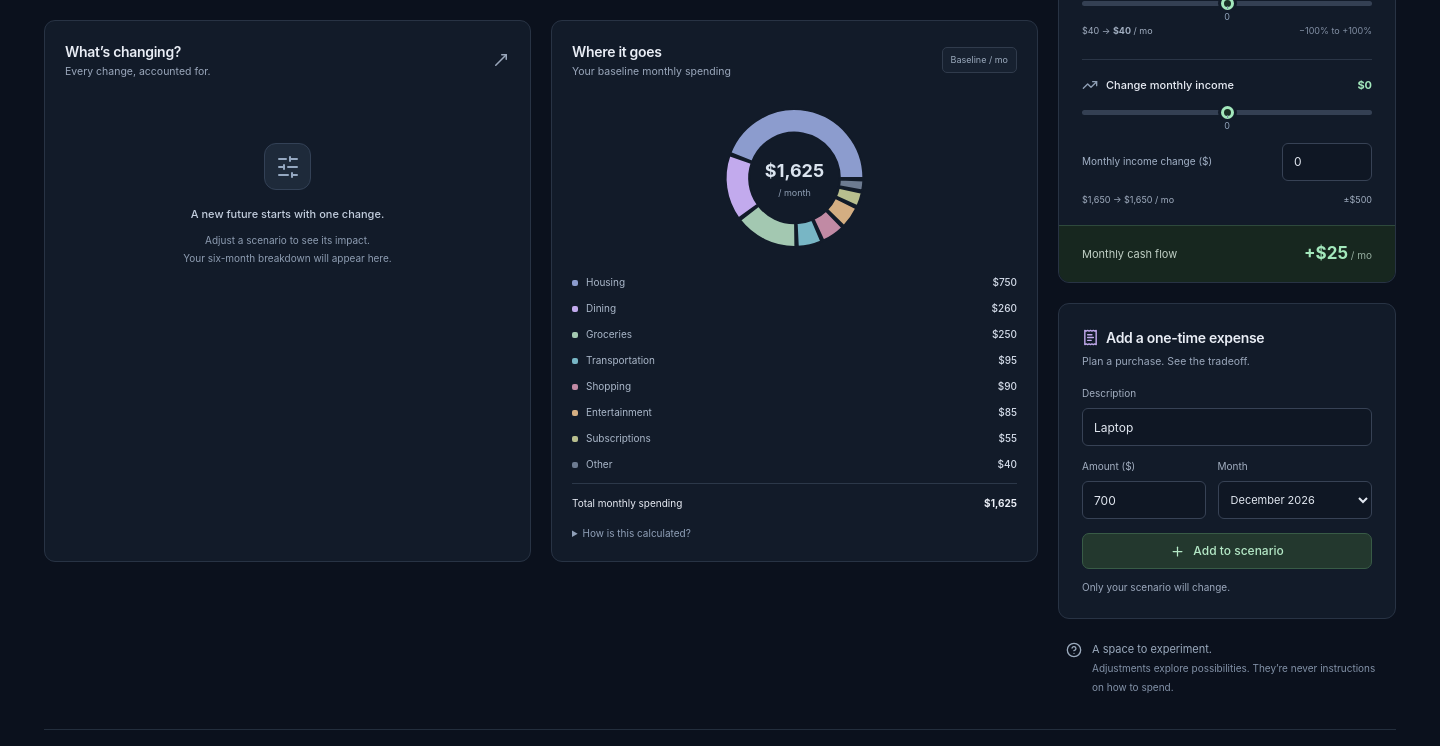
dashboard interactions › validates expense drafts, supports zero, and removes an applied cost
(page scrolled)
Step 1. Replace the text in the number field labelled "Amount ($)" with "-10" → coordinates (1144, 500), box [1082,481,1206,519]
Step 2. Click the button "Add to scenario" → coordinates (1227, 551), box [1082,533,1372,569]
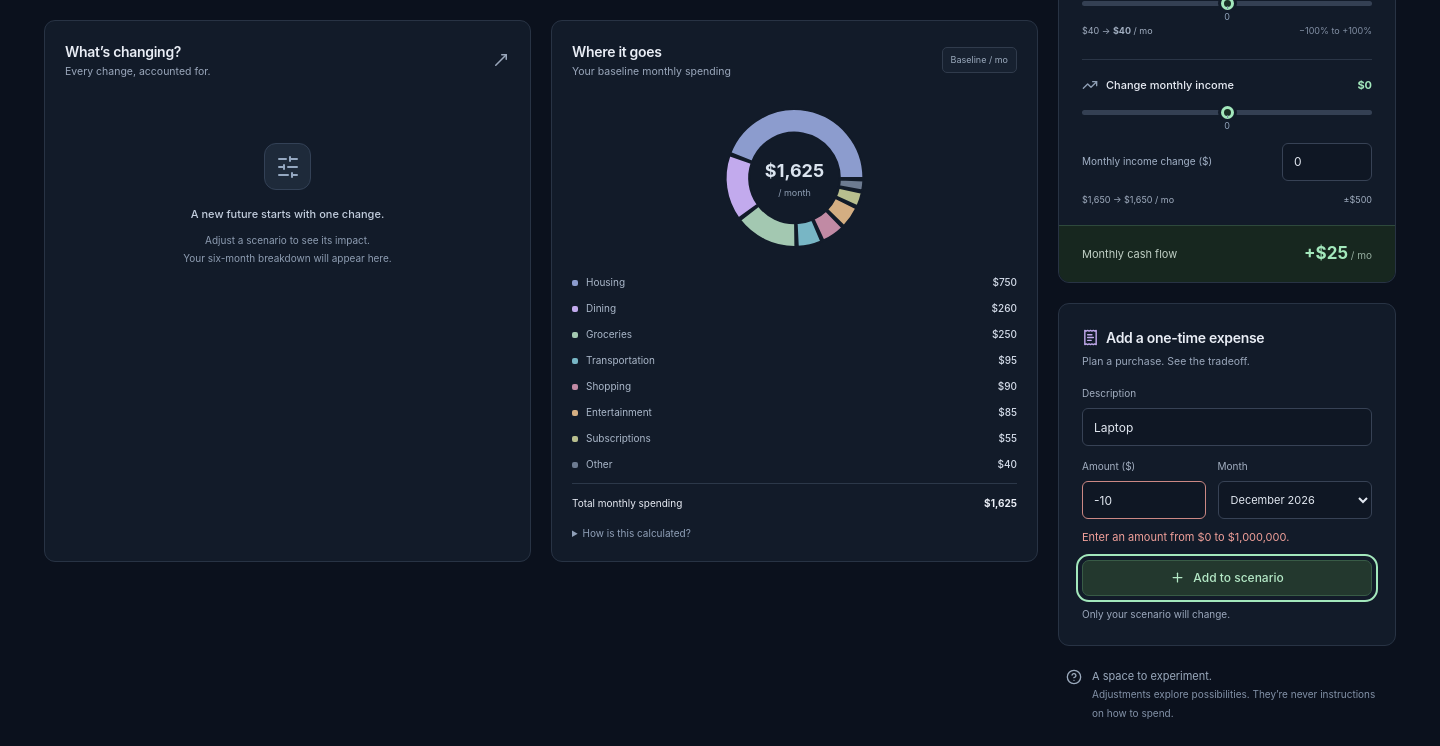
Check: the message "Enter an amount from $0 to $1,000,000." is shown, box [1082,530,1289,544]
Step 3. Replace the text in the number field labelled "Amount ($)" with "0" → coordinates (1144, 500), box [1082,481,1206,519]
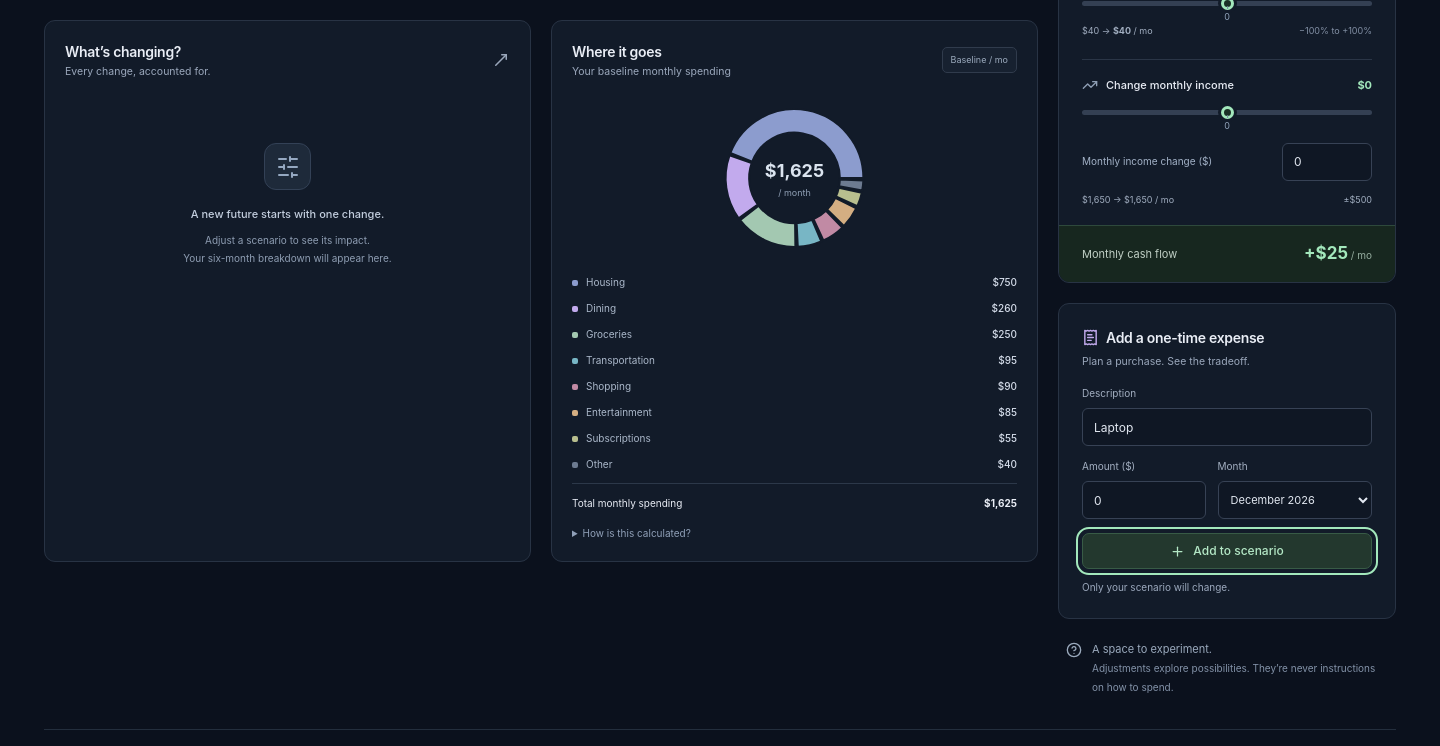
Step 4. Click the button "Add to scenario" → coordinates (1227, 551), box [1082,533,1372,569]
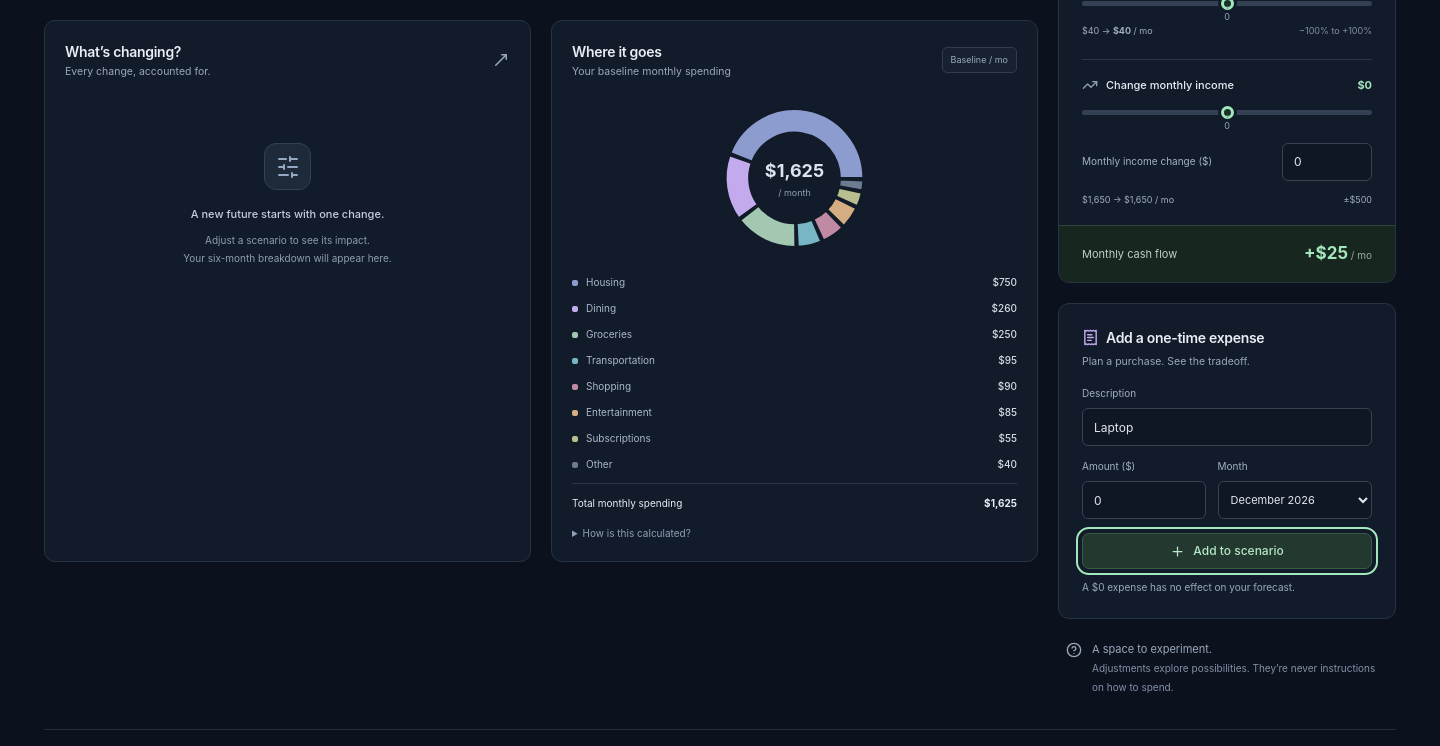
Check: the text "A $0 expense has no effect on your forecast." is shown, box [1082,581,1295,593]
Step 5. Replace the text in the number field labelled "Amount ($)" with "700" → coordinates (1144, 500), box [1082,481,1206,519]
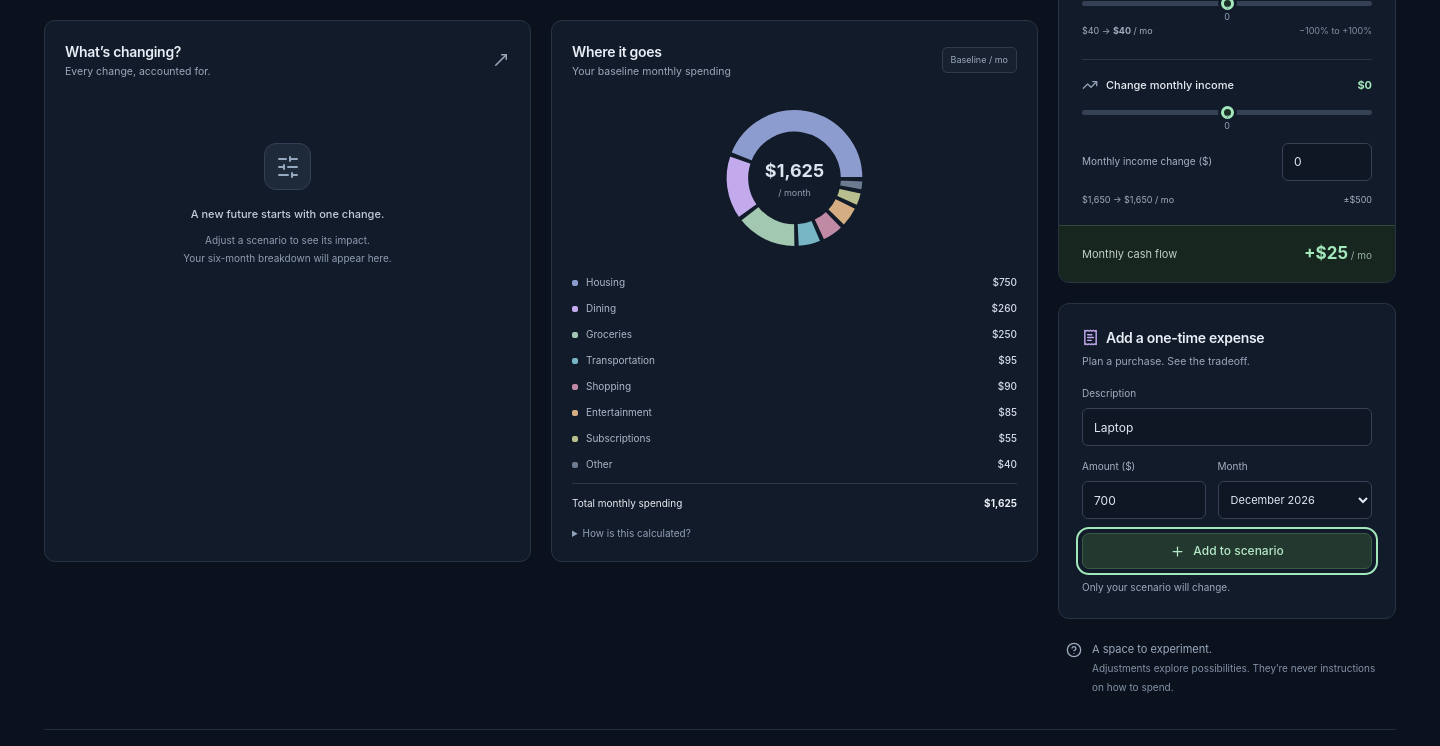
Step 6. Click the button "Add to scenario" → coordinates (1227, 551), box [1082,533,1372,569]
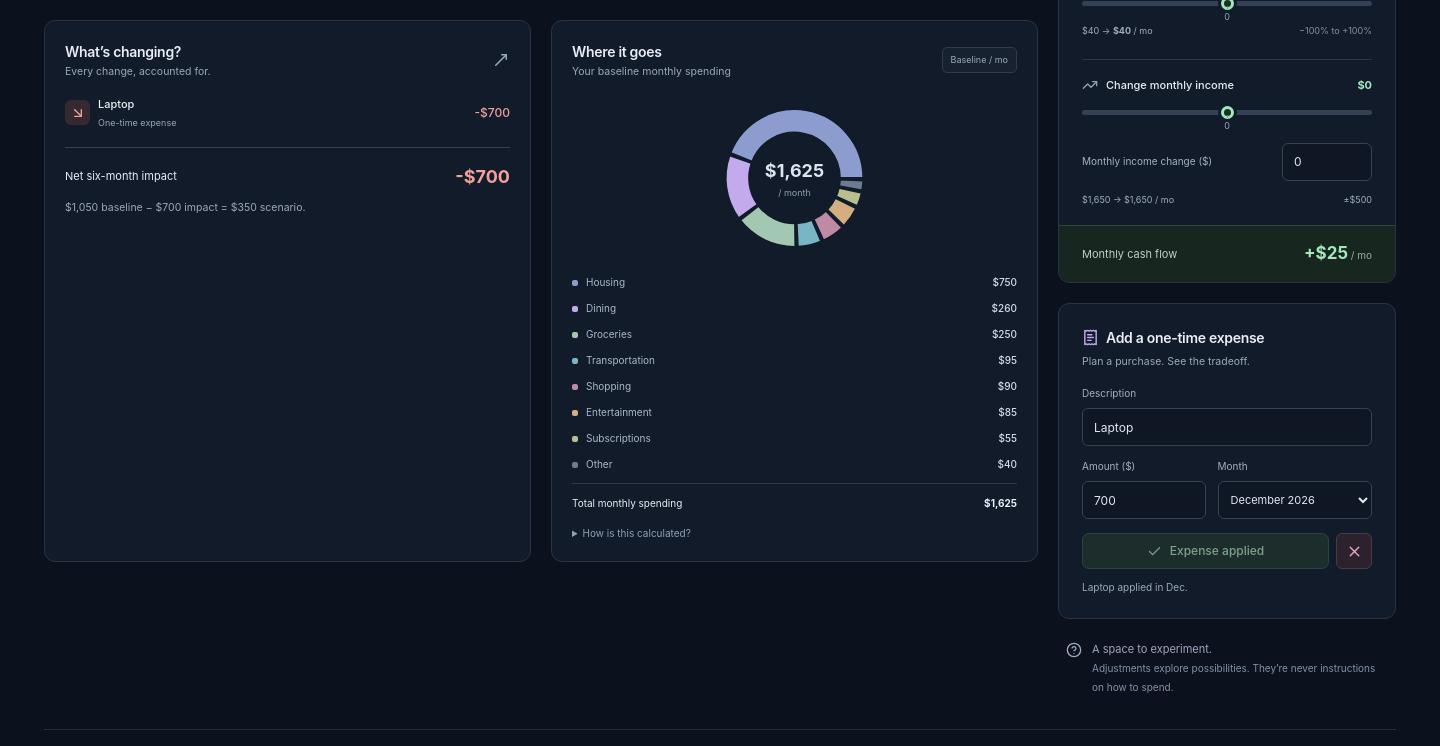
Step 7. Click the button named "Remove one-time expense" → coordinates (1354, 551), box [1336,533,1372,569]
(page scrolled)
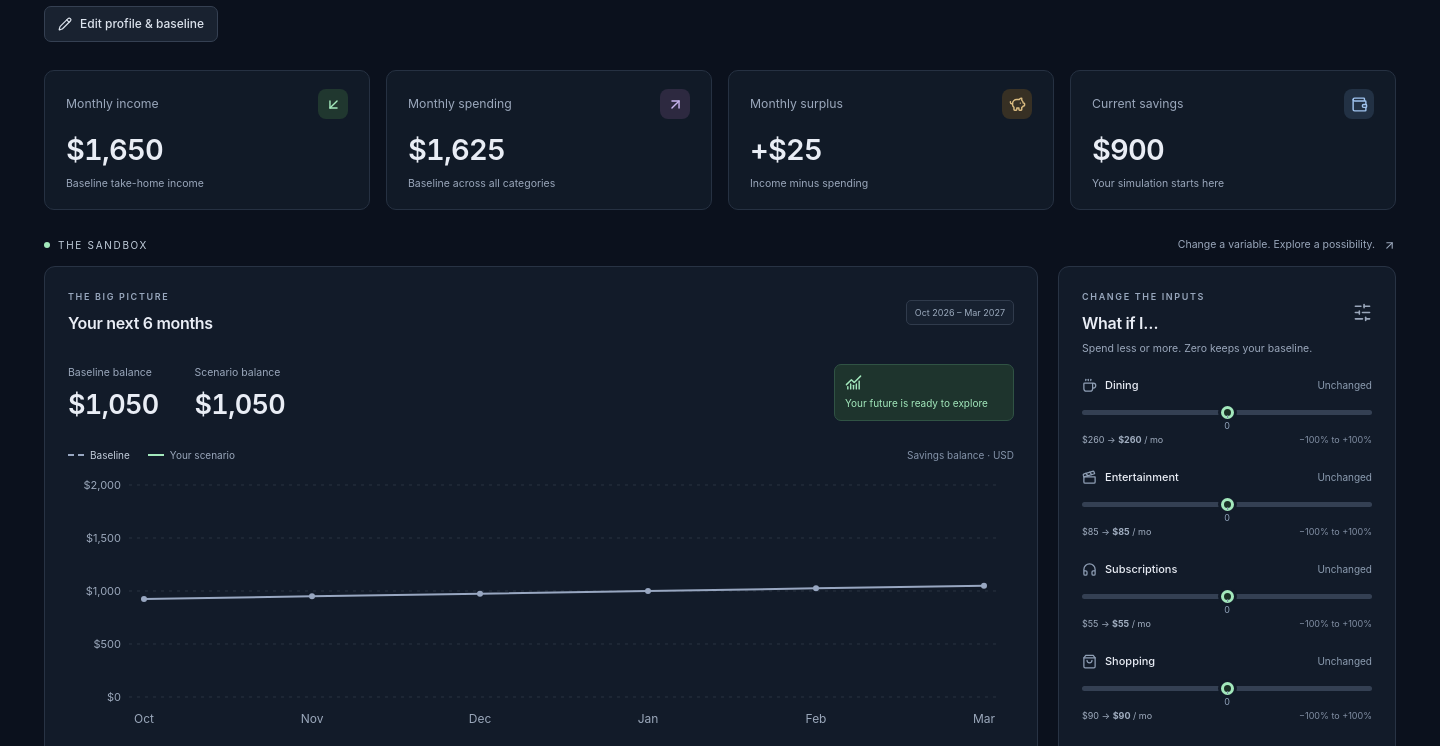
Check: the text with test id "scenario-ending" reads "$1,050", box [194,388,285,421]
